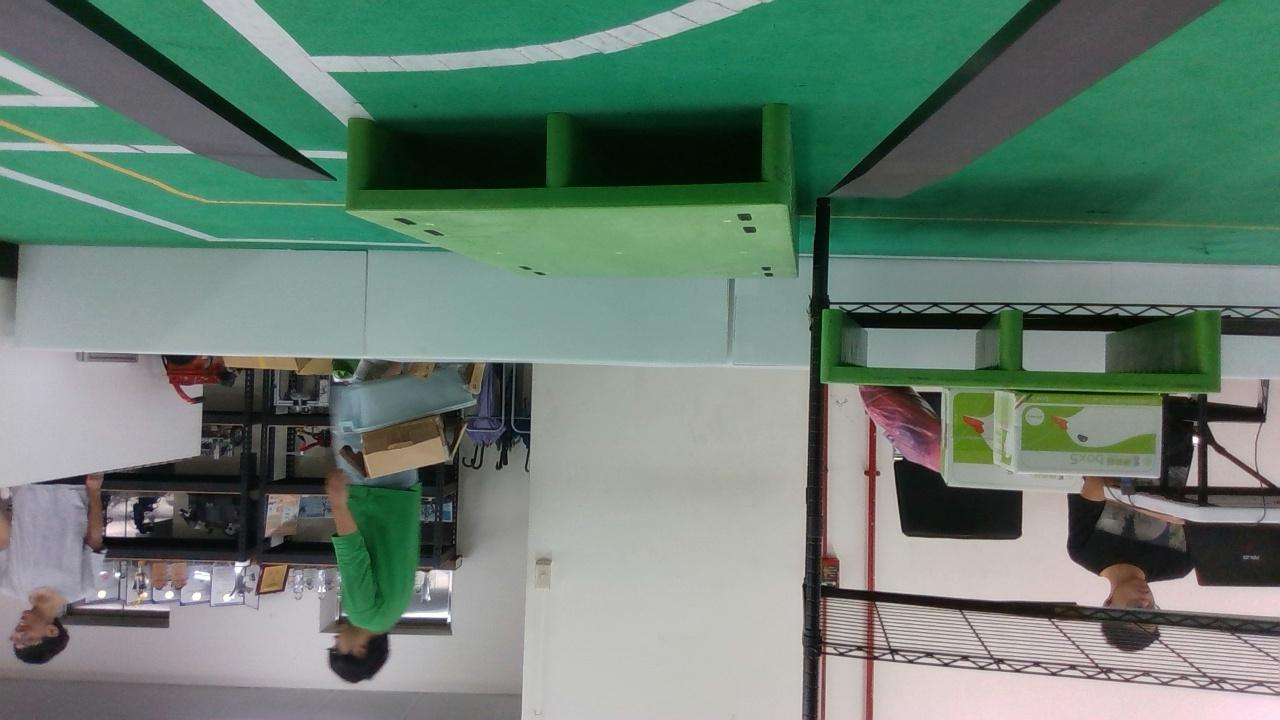Pallet: (345, 103, 788, 214), (821, 308, 1221, 394)
